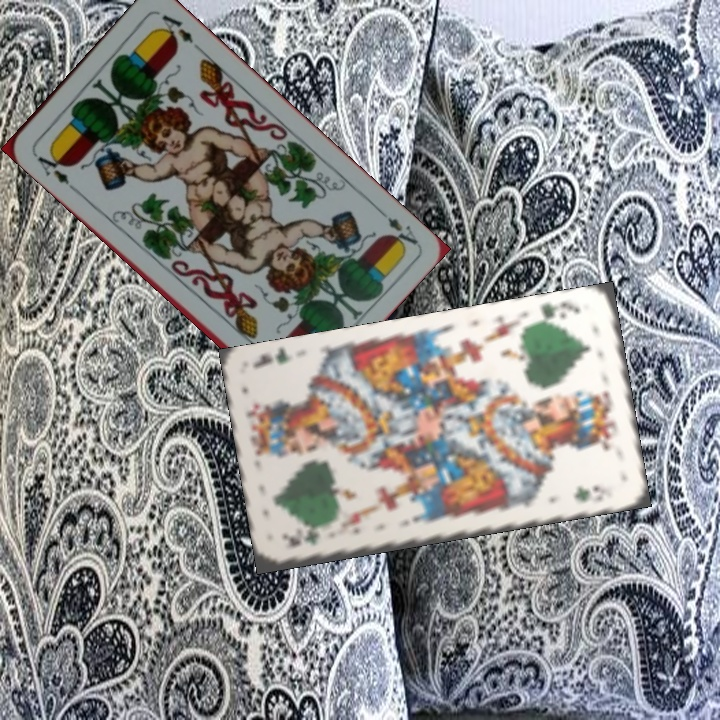EA: (372, 203, 421, 253), (29, 146, 72, 187)
GK: (533, 298, 583, 327), (277, 528, 323, 550)
